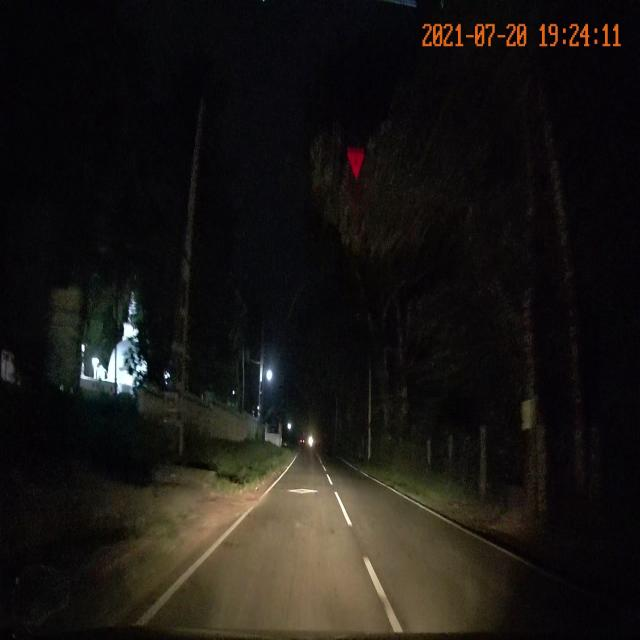diamond: (259, 479, 344, 505)
